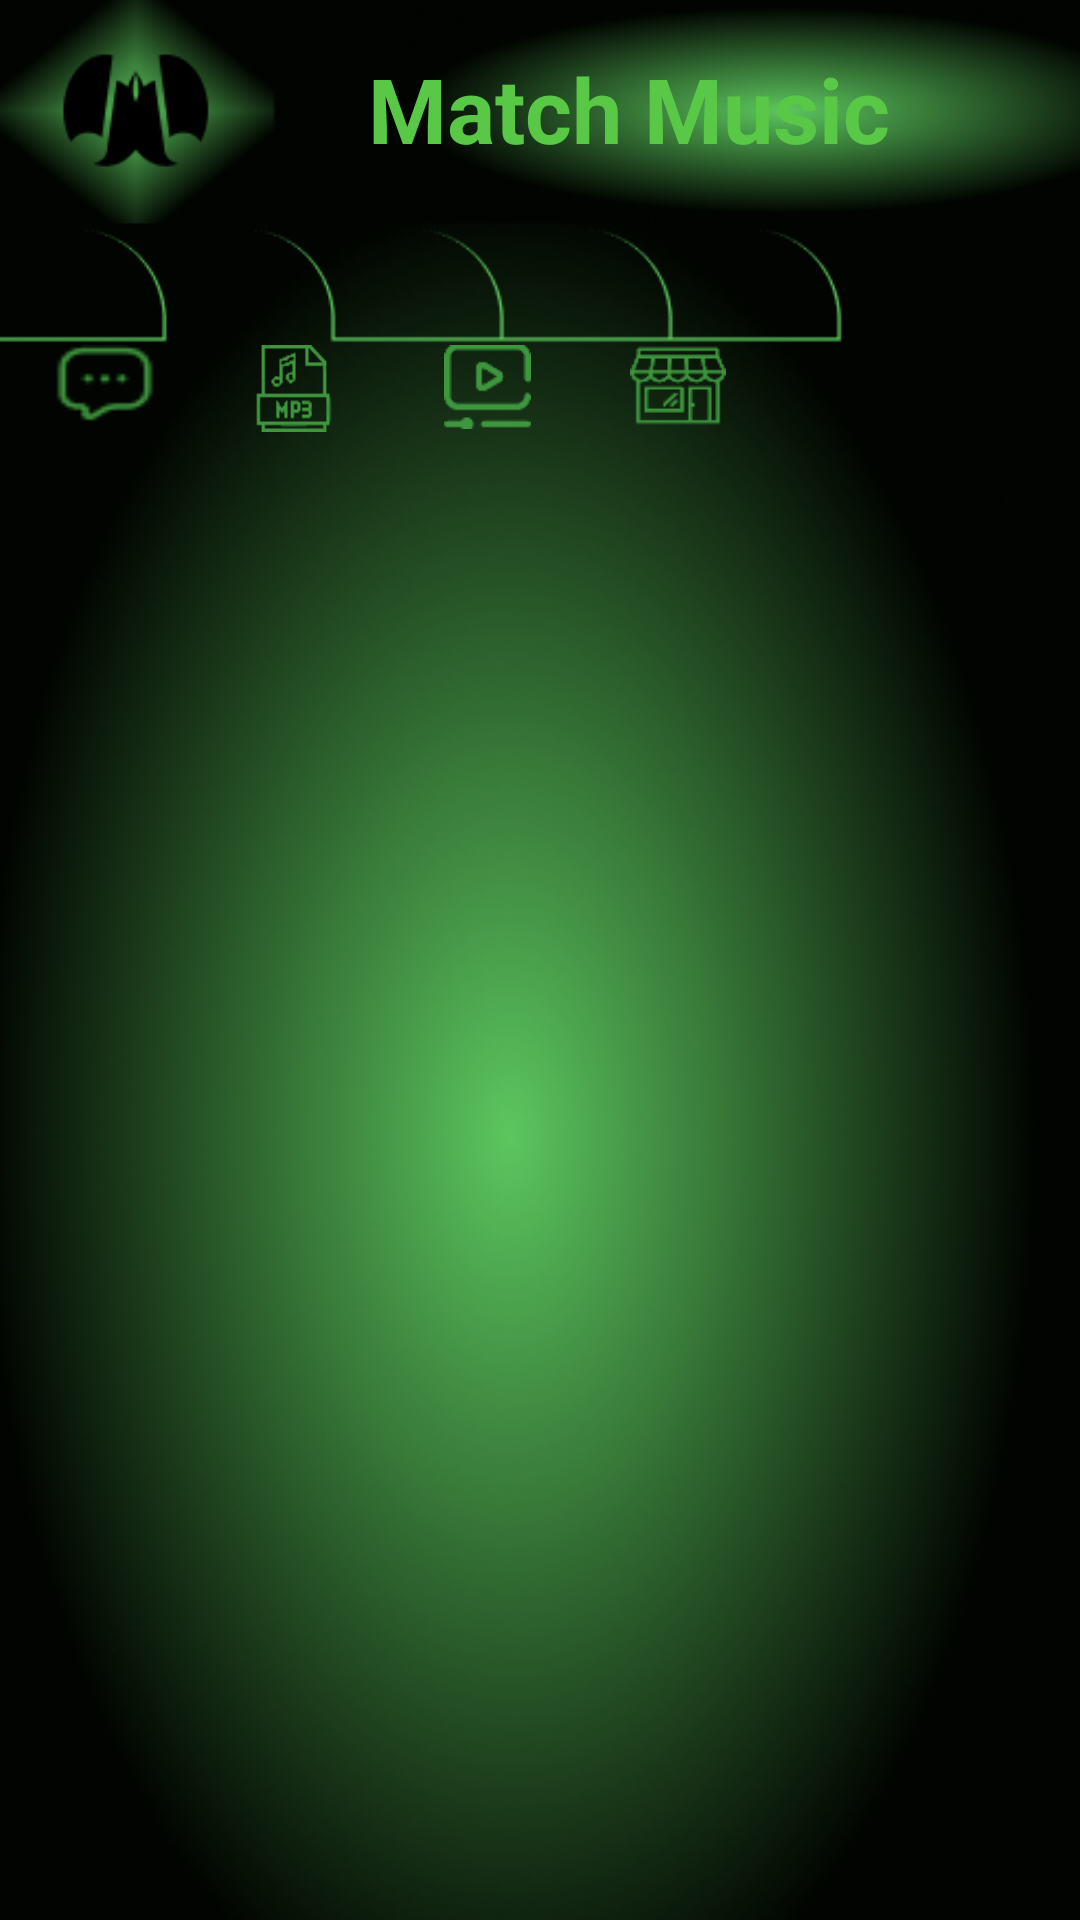

Where to tap for icons on this 1080px×1920px app screen, as point (x, y):
MENSAJE: point (105, 384)
playicon: point (487, 387)
tienda: point (678, 386)
